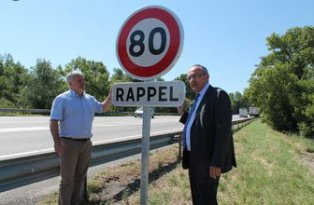Speed_limit_80km: (114, 5, 186, 79)
